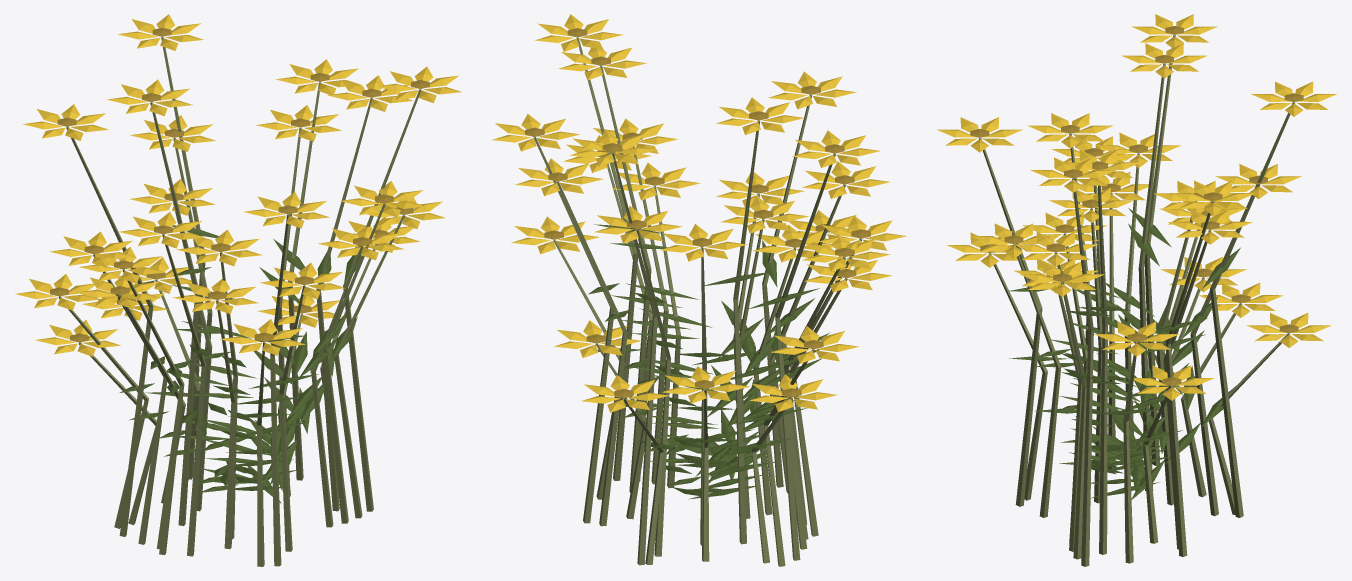
File: yellow-flower-clump.glb
The picture shows the model from 3 angles, left to right: view 1: azimuth 30°, elevation 25°; view 2: azimuth 150°, elevation 25°; view 3: azimuth 270°, elevation 25°; orthographic projection. The views are drawn at different scales.
Parts seen in each view (by area): view 1: yellow-flower-clump; view 2: yellow-flower-clump; view 3: yellow-flower-clump.
Part boxes in pixels (<box>): yellow-flower-clump: <box>15,14,461,566</box>; yellow-flower-clump: <box>492,14,906,566</box>; yellow-flower-clump: <box>937,14,1336,566</box>.
Bounding box in the file's own units: 0.6327 × 0.6895 × 0.5932.
Materials: 4 (1 with a texture image).
